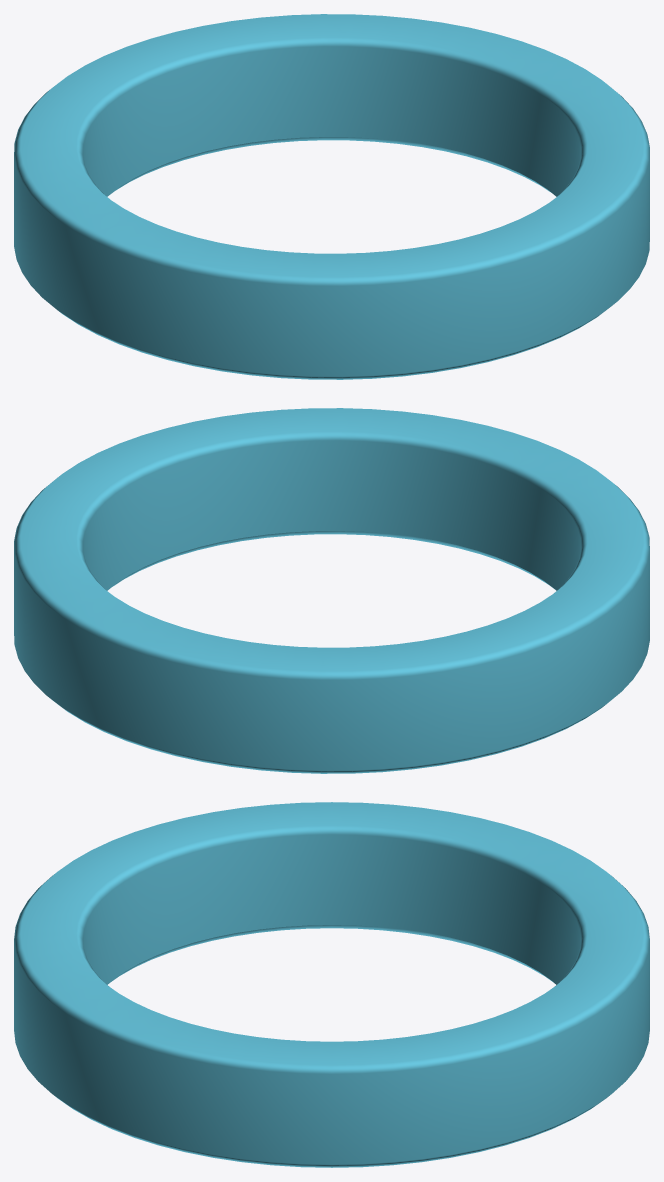
The picture shows the model from 3 angles, top to bottom: view 1: azimuth 30°, elevation 25°; view 2: azimuth 150°, elevation 25°; view 3: azimuth 270°, elevation 25°; orthographic projection.
Parts seen in each view (by area): view 1: seal_body; view 2: seal_body; view 3: seal_body.
Boxes of the visible parts, x1,y1,x2,y2 form: seal_body: (14, 14, 649, 379); seal_body: (14, 408, 649, 773); seal_body: (14, 802, 649, 1167).
Bounding box in the file's own units: 0.0365 × 0.0065 × 0.0365.
